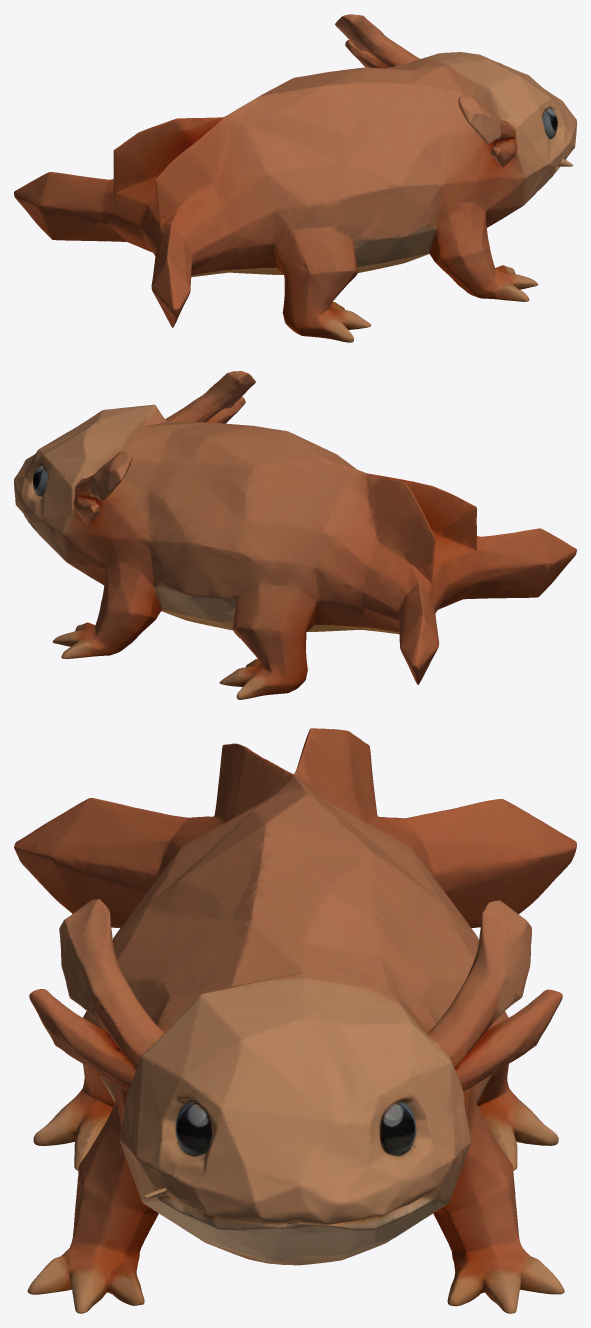
Rendered from ajolote_2b306705.glb.
3 renders of one model, top to bottom at view 1: azimuth 30°, elevation 25°; view 2: azimuth 150°, elevation 25°; view 3: azimuth 270°, elevation 25°, orthographic. The views are drawn at different scales.
Visible parts, largest first — view 1: aiprintgen_node_f3573180-8d61-41d1-b17f-e70978aa61b1; view 2: aiprintgen_node_f3573180-8d61-41d1-b17f-e70978aa61b1; view 3: aiprintgen_node_f3573180-8d61-41d1-b17f-e70978aa61b1.
Boxes of the visible parts, x1,y1,x2,y2 form: aiprintgen_node_f3573180-8d61-41d1-b17f-e70978aa61b1: (14,14,576,342); aiprintgen_node_f3573180-8d61-41d1-b17f-e70978aa61b1: (14,371,576,699); aiprintgen_node_f3573180-8d61-41d1-b17f-e70978aa61b1: (14,728,576,1313).
Size of the model in its own units: 1 by 0.4082 by 0.5882.
1 material, 1 textured.
